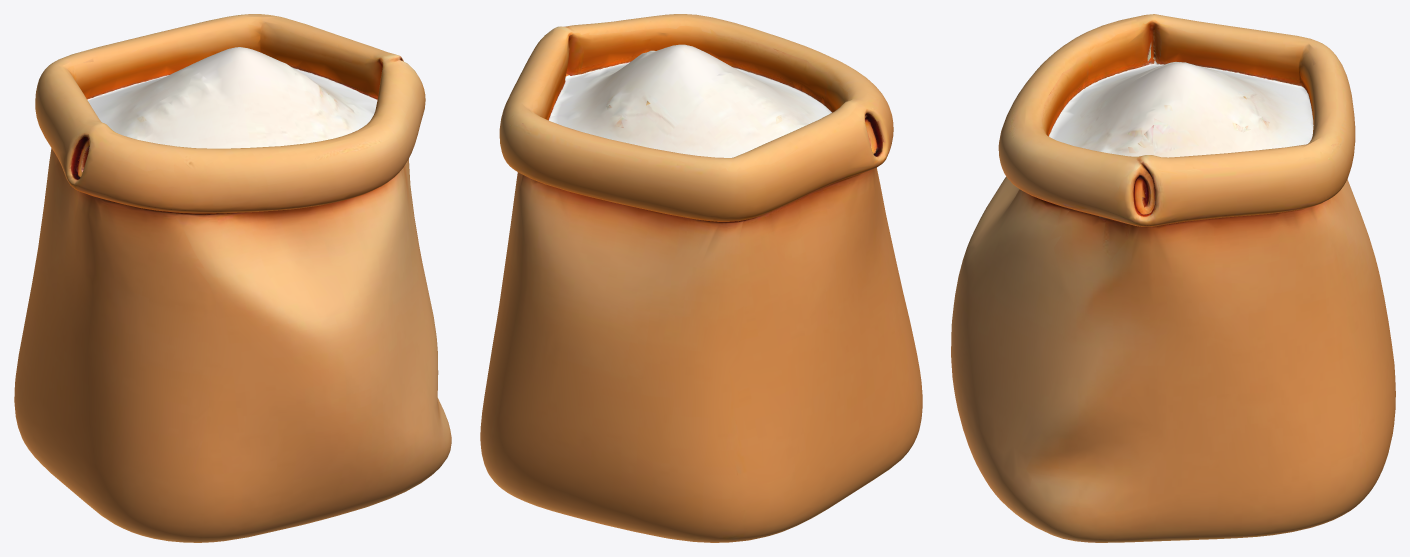
The model's file is flour.glb.
3 renders of one model, left to right at view 1: azimuth 30°, elevation 25°; view 2: azimuth 150°, elevation 25°; view 3: azimuth 270°, elevation 25°, orthographic.
Parts seen in each view (by area): view 1: hk_flour; view 2: hk_flour; view 3: hk_flour.
Part boxes in pixels (x1,y1,x2,y2): hk_flour: (14, 14, 451, 542); hk_flour: (480, 14, 922, 542); hk_flour: (951, 14, 1395, 542).
Size of the model in its own units: 0.8968 by 1 by 0.9887.
1 material, 1 textured.
